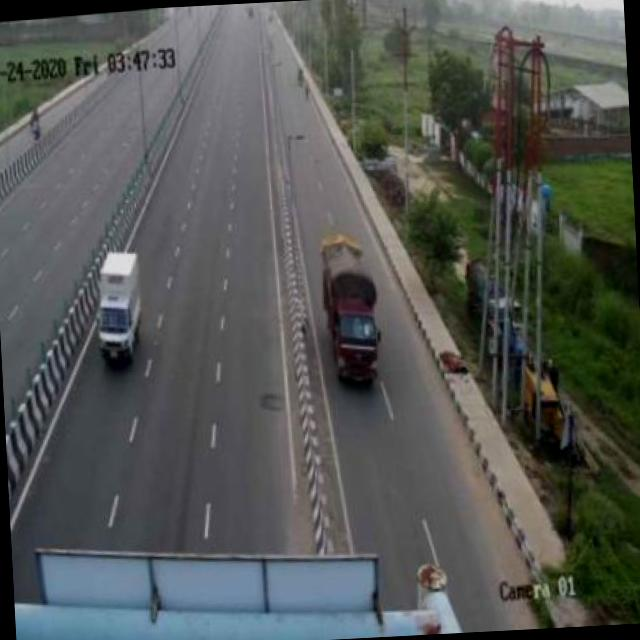car: (84, 238, 158, 371)
